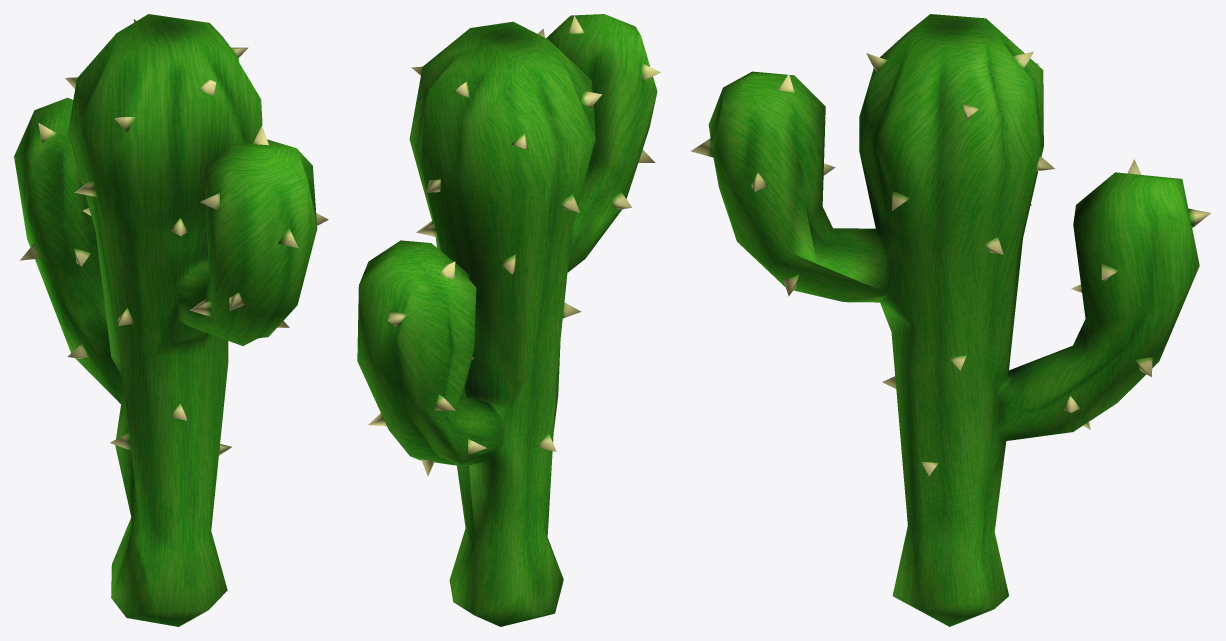
The model's file is cactus.FBX.
3 renders of one model, left to right at view 1: azimuth 30°, elevation 25°; view 2: azimuth 150°, elevation 25°; view 3: azimuth 270°, elevation 25°, orthographic.
Visible parts, largest first — view 1: default; view 2: default; view 3: default.
Part boxes in pixels (left/top/right/bottom): default: left=14, top=14, right=328, bottom=626; default: left=357, top=14, right=660, bottom=626; default: left=691, top=14, right=1210, bottom=626.
Bounding box in the file's own units: 2.17 × 7.04 × 5.64.
1 material, 1 textured.
